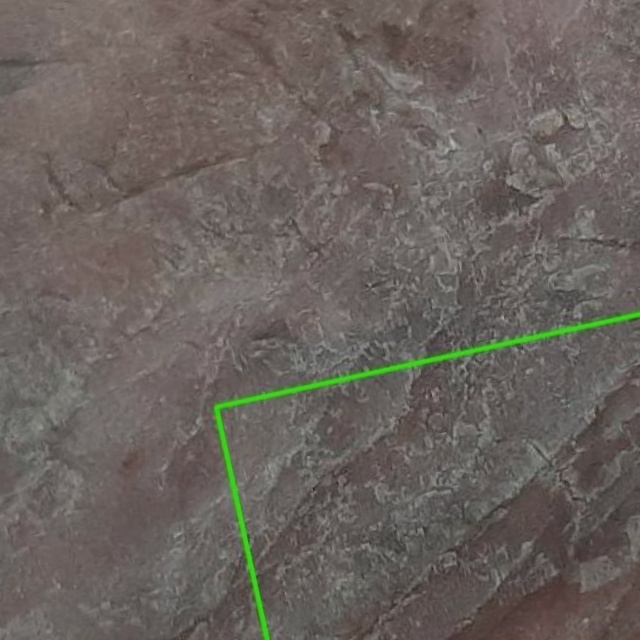Eczema: (216, 314, 639, 639)
